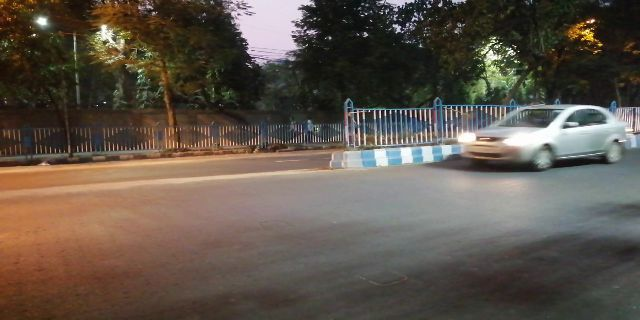Car: (455, 99, 635, 178)
